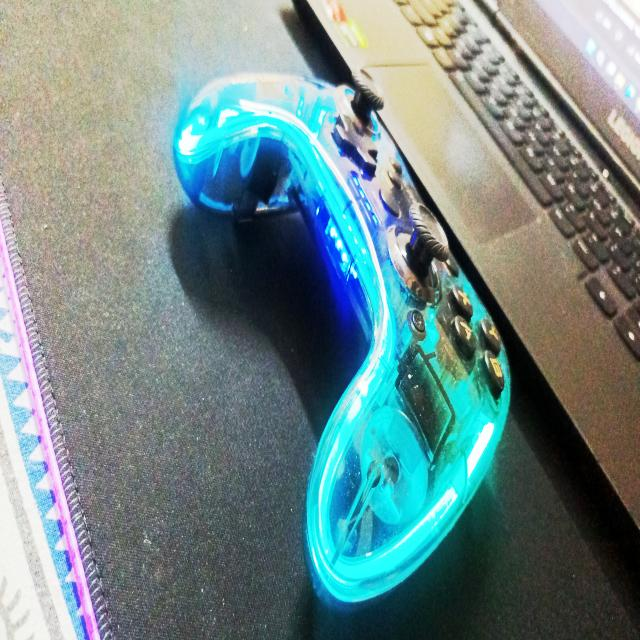gamepad: (172, 69, 512, 607)
